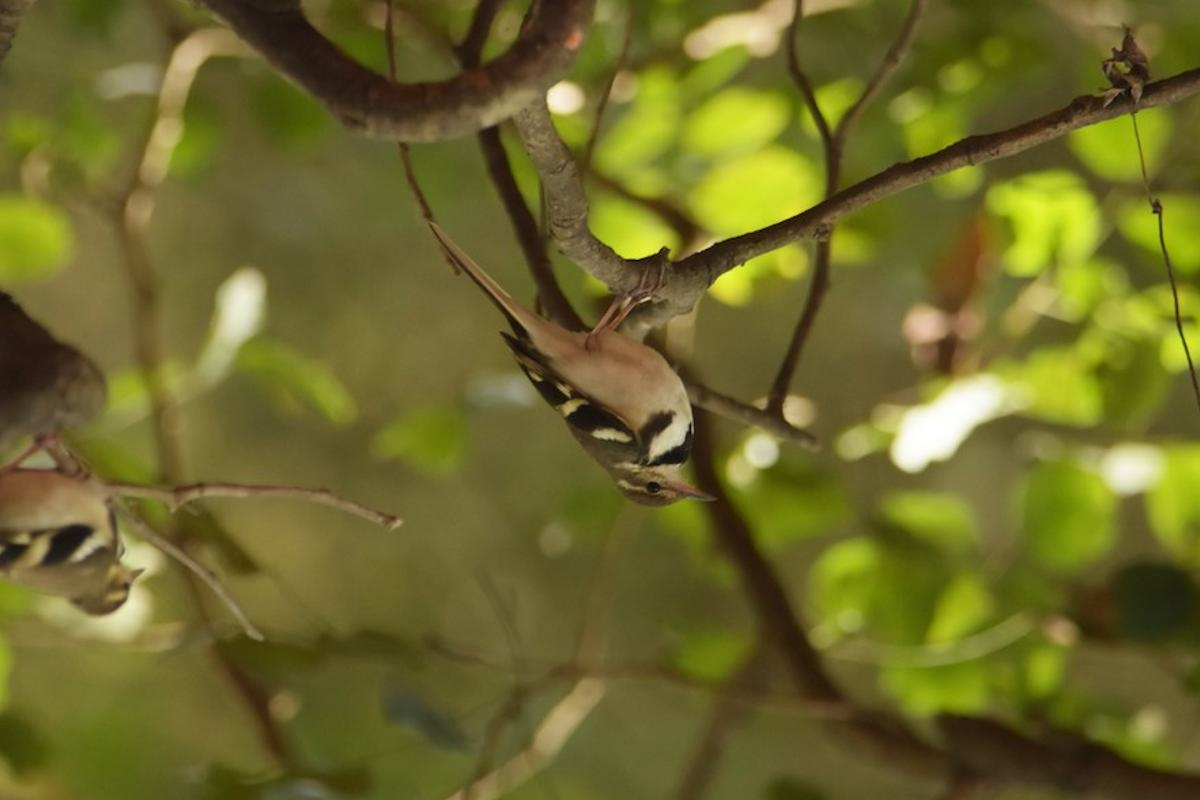wagtail: (438, 185, 701, 530)
